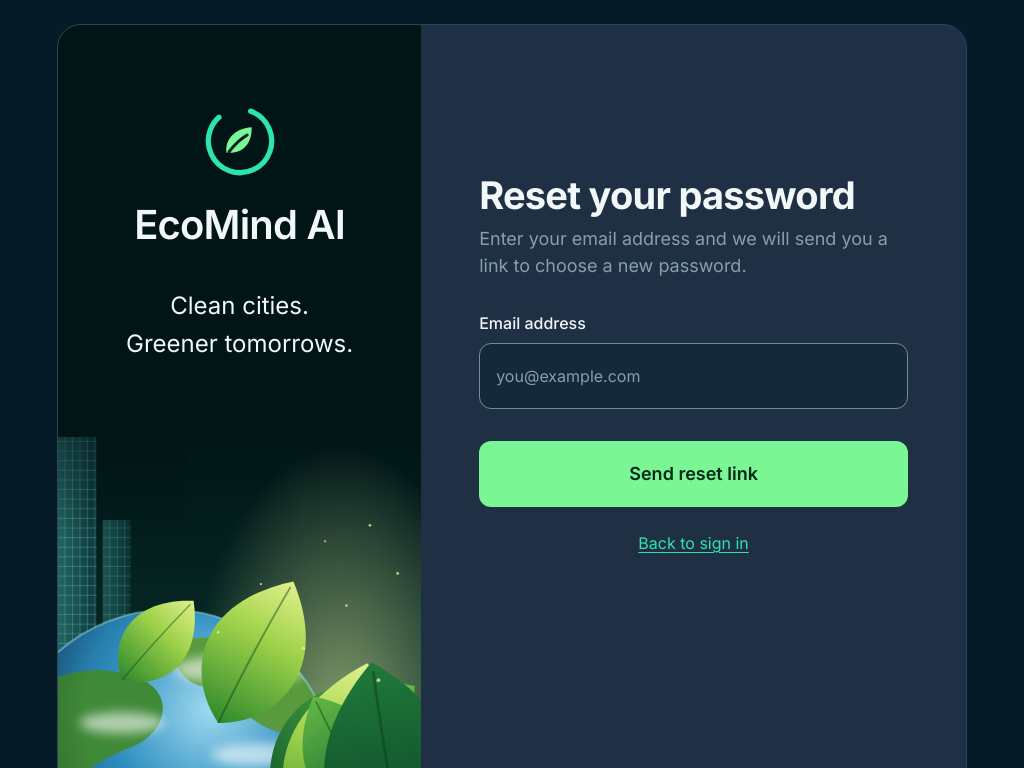
Test case: forgot password › sends the address and shows the same confirmation whatever the account situation is
In the field labelled "Email address": (694, 376) [479, 343, 908, 409], type "nobody@example.org"
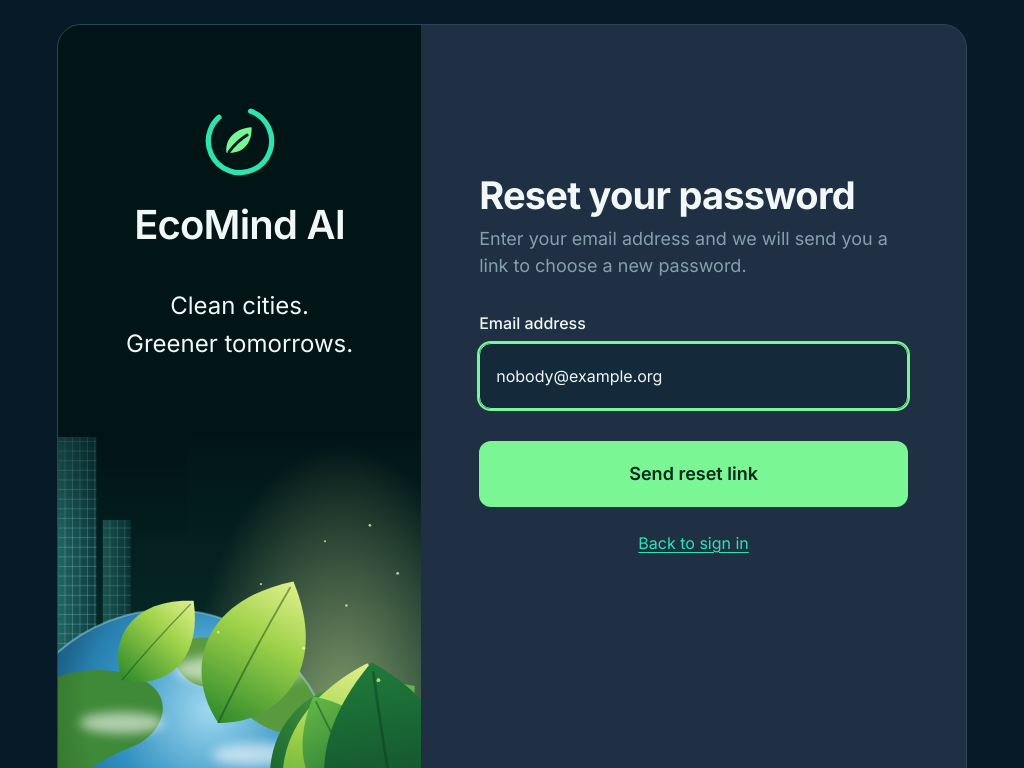
Click the button "Send reset link": click(694, 474) [479, 441, 908, 507]
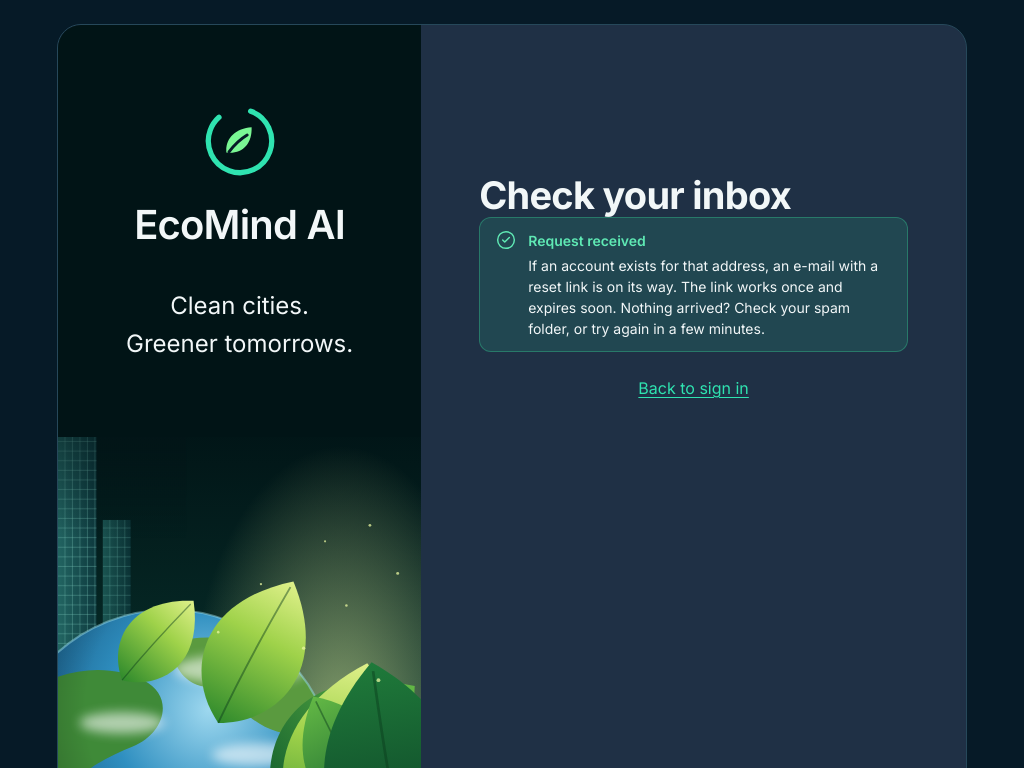
expect the heading "Check your inbox" is shown: met, box [479, 172, 791, 218]
expect the message shows "If an account exists for that address": met, box [528, 257, 878, 337]
